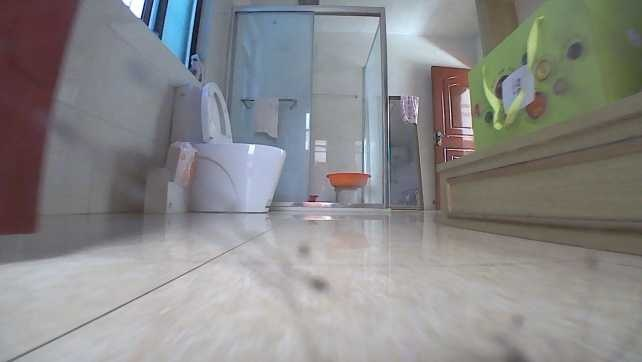toilet: (169, 77, 286, 212)
